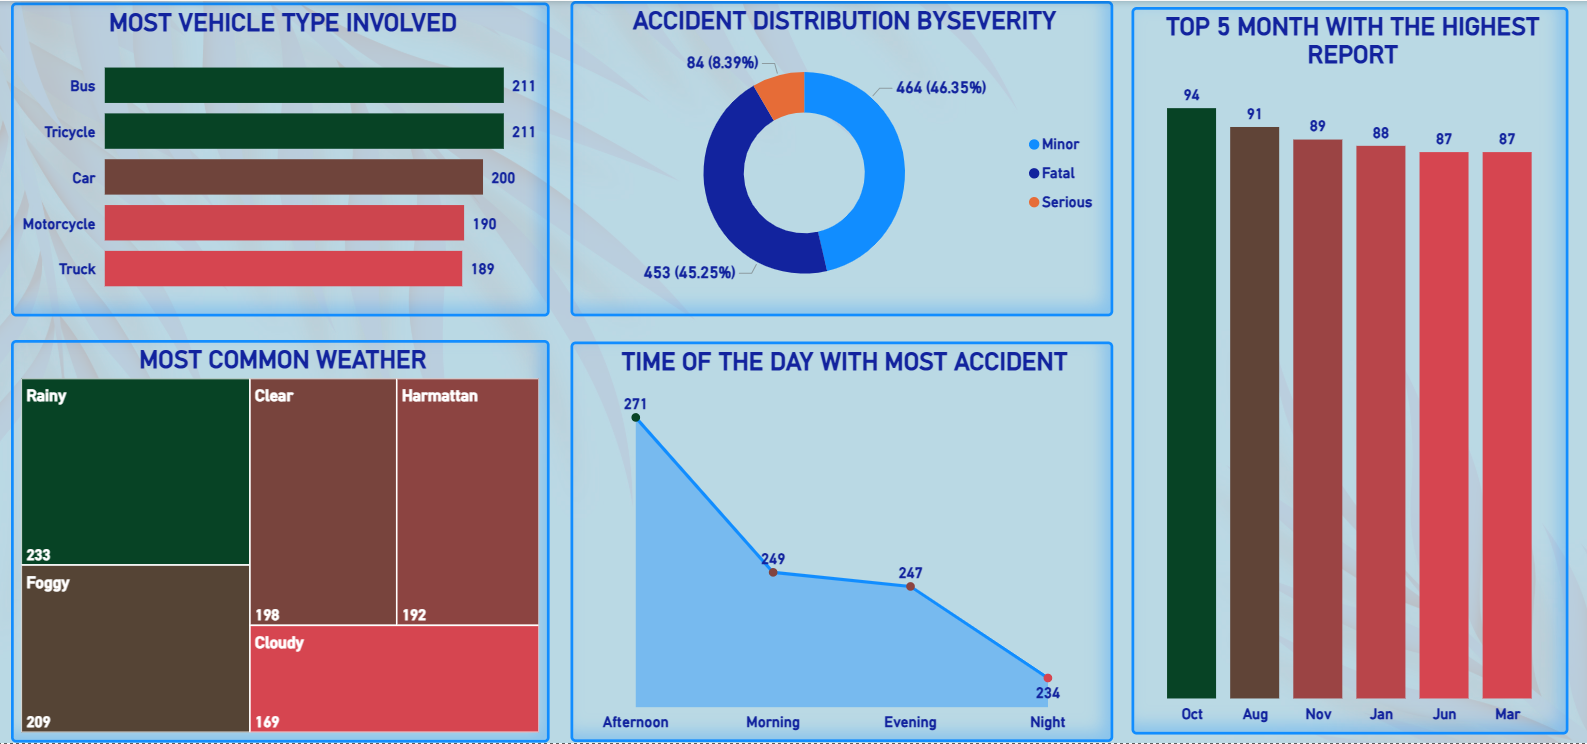

The page's visual inventory and layout, read from the dashboard file:
{"tool":"powerbi","page":{"name":"Page 2","canvas":[1550,720],"ordinal":1},"visuals":[{"type":"treemap","title":"MOST COMMON WEATHER","fields":{"Group":["Nigerian_Road_Accident_Data_Wit.Weather"],"Values":["CountNonNull(Nigerian_Road_Accident_Data_Wit.Reported By)"]},"box":[20.5,329.3,522.4,390.7],"z":1000},{"type":"barChart","title":"MOST VEHICLE TYPE INVOLVED","fields":{"Category":["Nigerian_Road_Accident_Data_Wit.Vehicle Type"],"Y":["CountNonNull(Nigerian_Road_Accident_Data_Wit.Vehicle Type)"]},"box":[20.5,1.5,522.4,304.4],"z":2000},{"type":"areaChart","title":"TIME OF THE DAY WITH MOST ACCIDENT","fields":{"Category":["Nigerian_Road_Accident_Data_Wit.Time of Day"],"Y":["CountNonNull(Nigerian_Road_Accident_Data_Wit.Reported By)"]},"box":[563.8,330.5,526.6,388.9],"z":3000},{"type":"donutChart","title":"ACCIDENT DISTRIBUTION BYSEVERITY","fields":{"Y":["CountNonNull(Nigerian_Road_Accident_Data_Wit.Accident Severity)"],"Category":["Nigerian_Road_Accident_Data_Wit.Accident Severity"]},"box":[563.8,0,526.6,306.2],"z":4000},{"type":"columnChart","title":"TOP 5 MONTH WITH THE HIGHEST REPORT","fields":{"Category":["Nigerian_Road_Accident_Data_Wit.Month"],"Y":["CountNonNull(Nigerian_Road_Accident_Data_Wit.Reported By)"]},"box":[1107.6,6.5,424.2,706],"z":5000}]}

Visuals, with their boxes in screenshot pixels (x1, y1, x2, y2), scaled from the page's 1550x720 canvas onto the 1587x744 screenshot:
"MOST COMMON WEATHER" treemap: [x1=21, y1=340, x2=556, y2=743]
"MOST VEHICLE TYPE INVOLVED" barChart: [x1=21, y1=2, x2=556, y2=316]
"TIME OF THE DAY WITH MOST ACCIDENT" areaChart: [x1=577, y1=342, x2=1116, y2=743]
"ACCIDENT DISTRIBUTION BYSEVERITY" donutChart: [x1=577, y1=0, x2=1116, y2=316]
"TOP 5 MONTH WITH THE HIGHEST REPORT" columnChart: [x1=1134, y1=7, x2=1568, y2=736]
